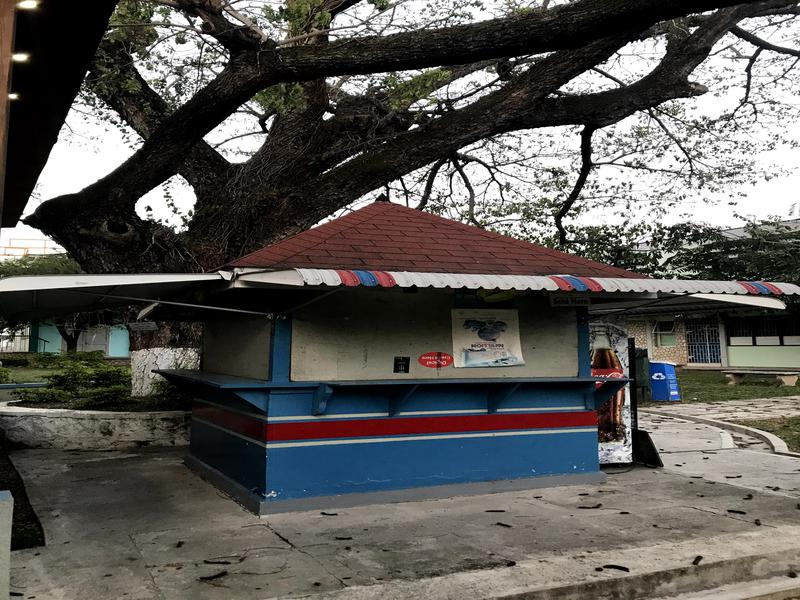18.0051667_-76.74944412_librarystall: (150, 184, 656, 514)
